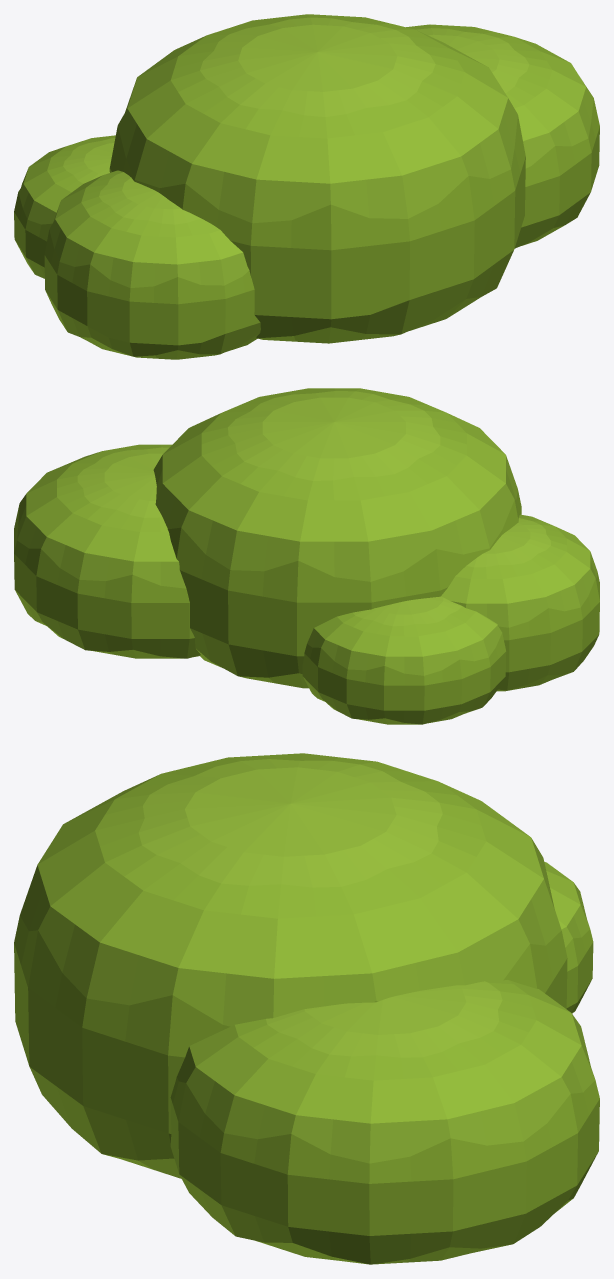
Rendered from W.bush_model.gltf.
3 renders of one model, top to bottom at view 1: azimuth 30°, elevation 25°; view 2: azimuth 150°, elevation 25°; view 3: azimuth 270°, elevation 25°, orthographic. The views are drawn at different scales.
Parts seen in each view (by area): view 1: Bush; view 2: Bush; view 3: Bush.
Part boxes in pixels (x1,y1,x2,y2): Bush: (14,14,599,359); Bush: (14,388,599,724); Bush: (14,753,599,1264).
Bounding box in the file's own units: 4.99 × 2.17 × 3.39.
Materials: 1 (1 with a texture image).
